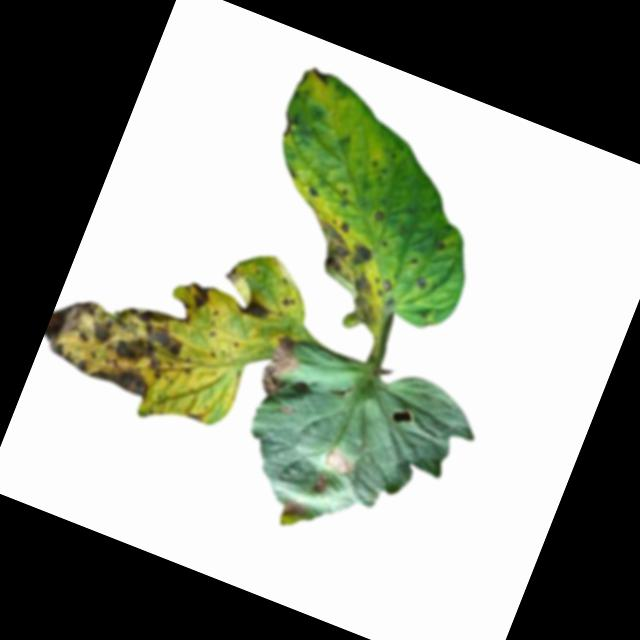Early_blight: (36, 274, 192, 405), (295, 213, 415, 329), (253, 328, 308, 401), (180, 277, 218, 315), (320, 442, 360, 478), (233, 290, 273, 324), (277, 493, 308, 524), (309, 472, 332, 495), (308, 63, 331, 83), (302, 181, 324, 201), (414, 269, 432, 290), (371, 205, 388, 224), (279, 292, 297, 308)
